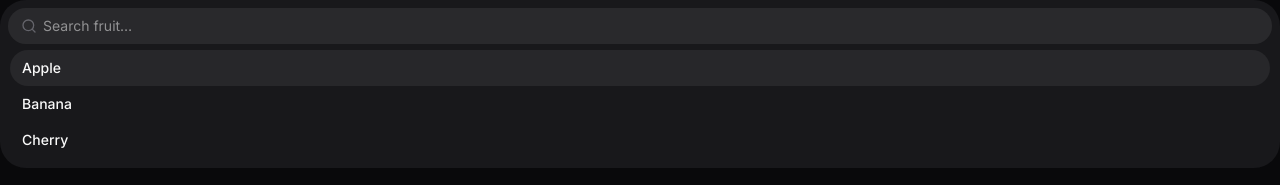
it: Command — filtering › shows CommandEmpty when no items match the query
The width and height of the screenshot is (1280, 185).
In the dropdown with placeholder "Search fruit…": coordinates (654, 26) [37,16,1271,36], type "zzz"
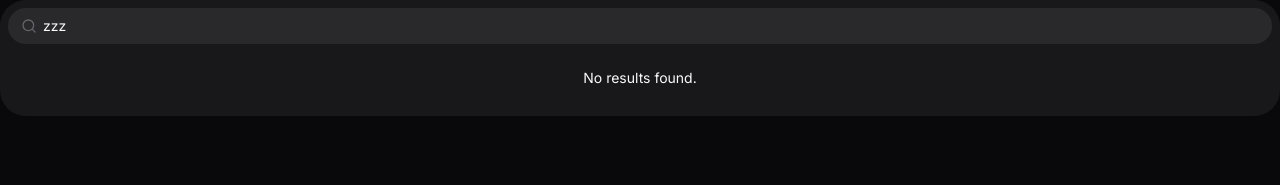
Expected: the text "No results found." is shown, [583,69,697,86]
